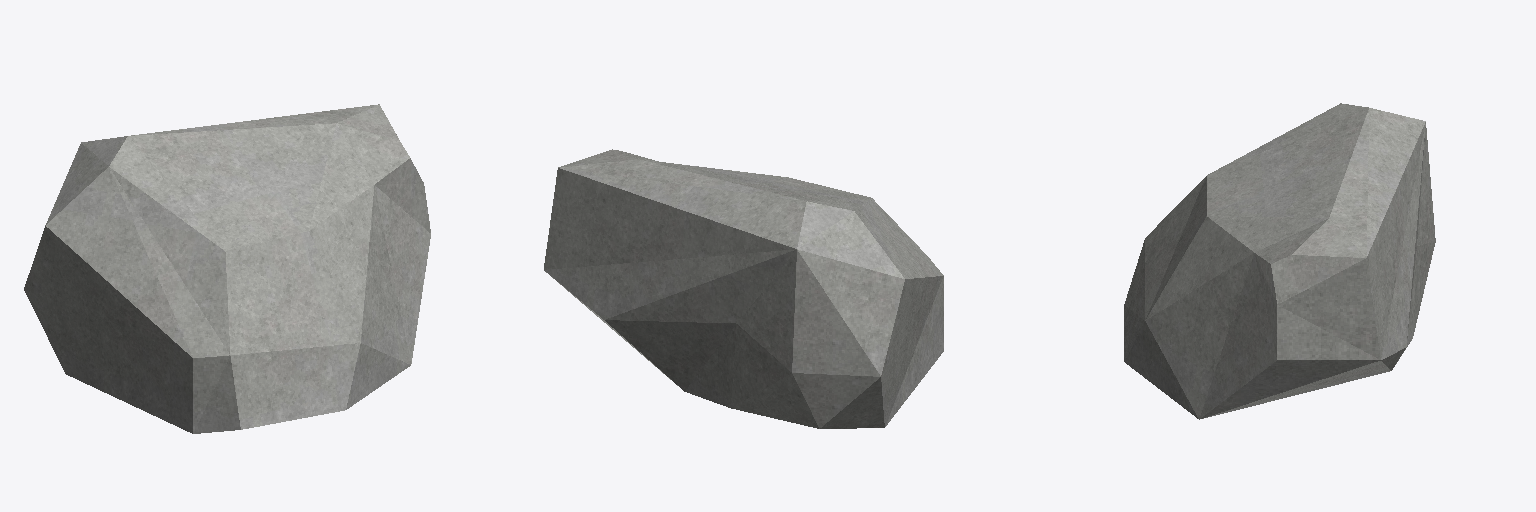
3 renders of one model, left to right at view 1: azimuth 30°, elevation 25°; view 2: azimuth 150°, elevation 25°; view 3: azimuth 270°, elevation 25°, orthographic.
Parts seen in each view (by area): view 1: Mesh1 Model; view 2: Mesh1 Model; view 3: Mesh1 Model.
Part boxes in pixels (bbox=[...]): Mesh1 Model: bbox=[24, 104, 430, 433]; Mesh1 Model: bbox=[544, 149, 943, 428]; Mesh1 Model: bbox=[1124, 103, 1435, 419].
Bounding box in the file's own units: 49 × 29 × 38.01.
Materials: 1 (1 with a texture image).